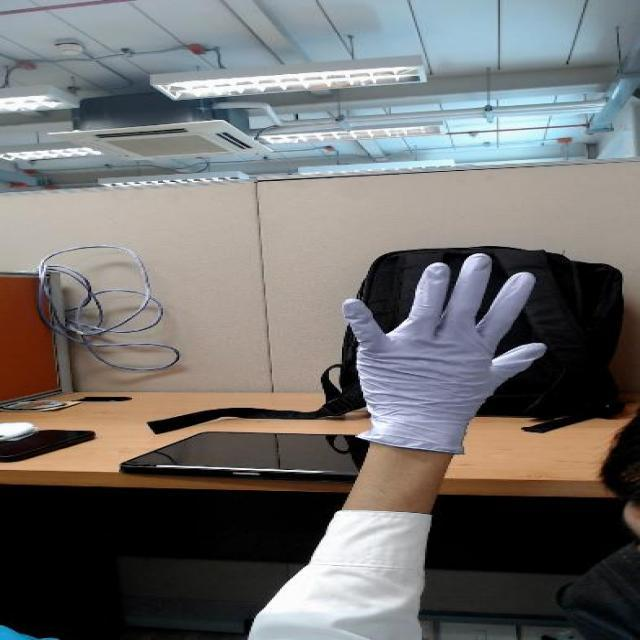Glove: (341, 248, 542, 455)
